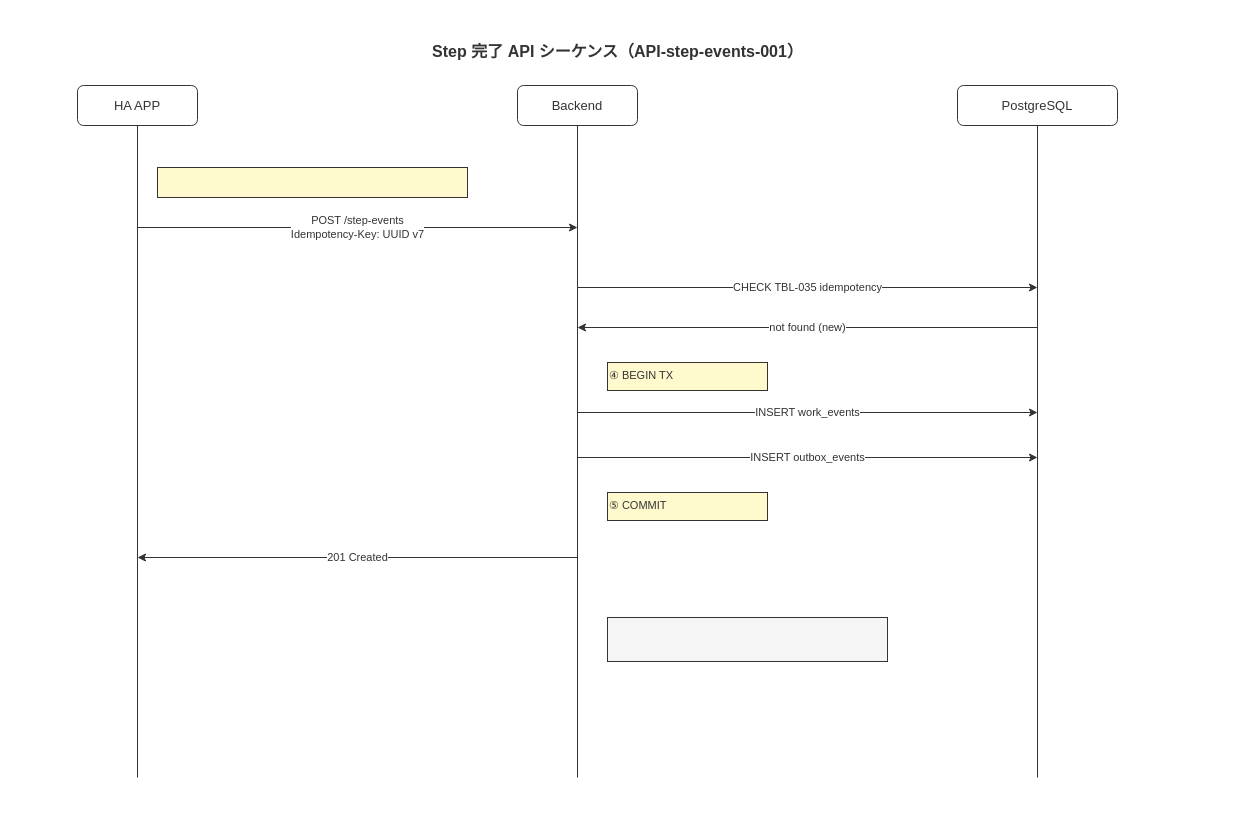
This 1234x834 diagram has some shape labels left out. The centre of each missing label's shape, as x and y in pixels:
TBL-035: idempotency_keys work_events + outbox_events: (x=747, y=639)
① compute content_hash, prev_hash (local): (x=312, y=182)
